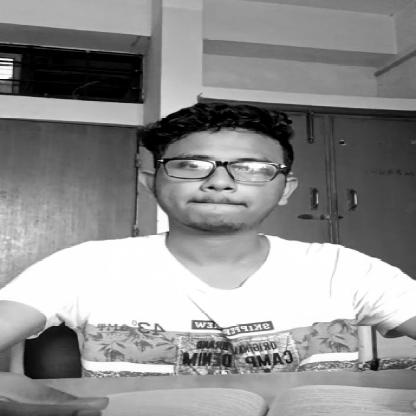Normal: (143, 108, 302, 227)
